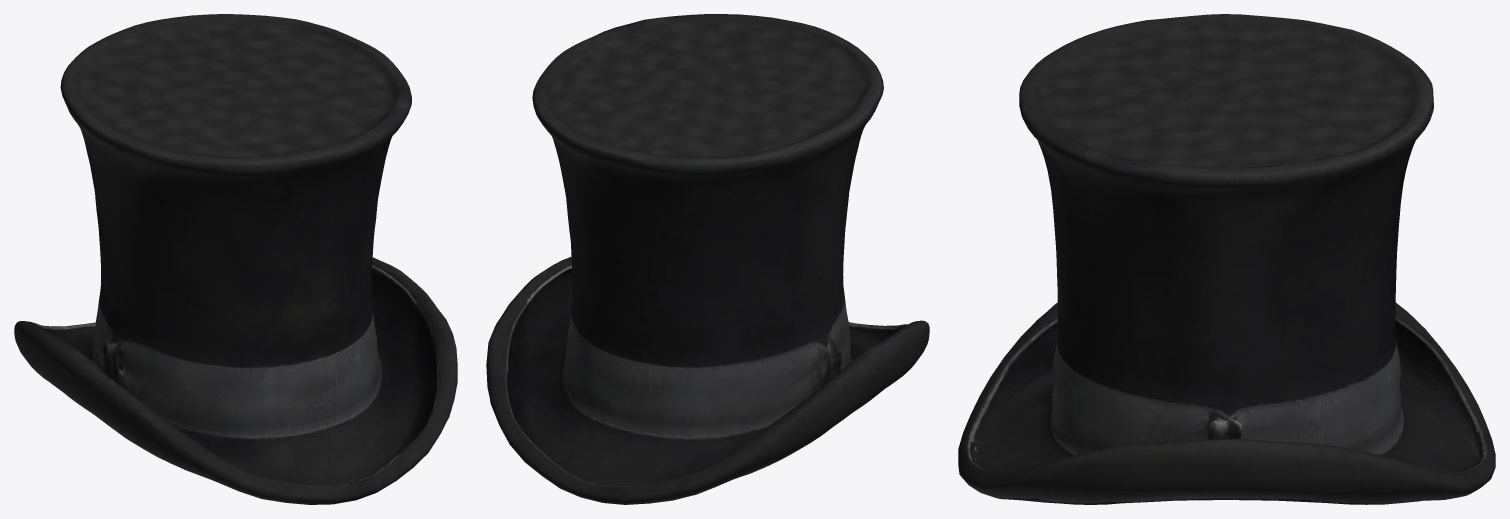
The model's file is top-hat.glb.
3 renders of one model, left to right at view 1: azimuth 30°, elevation 25°; view 2: azimuth 150°, elevation 25°; view 3: azimuth 270°, elevation 25°, orthographic. The views are drawn at different scales.
Parts seen in each view (by area): view 1: elegant-top-hat; view 2: elegant-top-hat; view 3: elegant-top-hat.
Boxes of the visible parts, x1=… form: elegant-top-hat: x1=14, y1=14, x2=457, y2=504; elegant-top-hat: x1=486, y1=14, x2=929, y2=504; elegant-top-hat: x1=958, y1=14, x2=1495, y2=504.
Size of the model in its own units: 30.09 by 27.61 by 35.63.
Materials: 1 (1 with a texture image).
